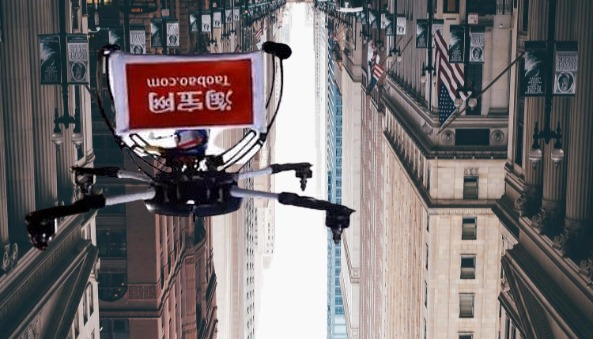drone: (25, 41, 357, 251)
